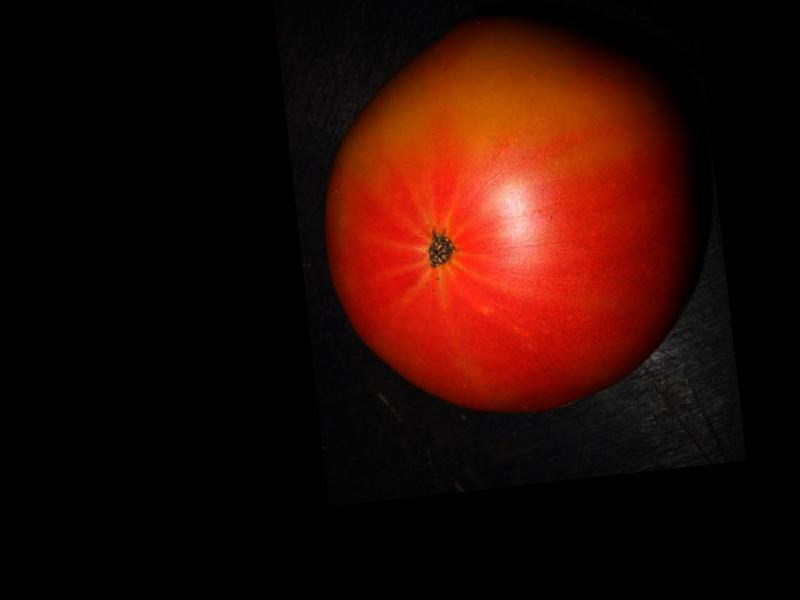Tomato: (303, 0, 722, 431)
